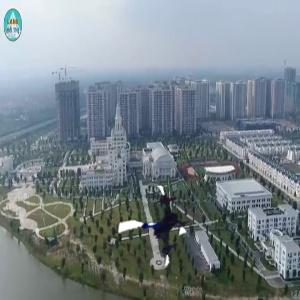drone: (110, 185, 200, 275)
